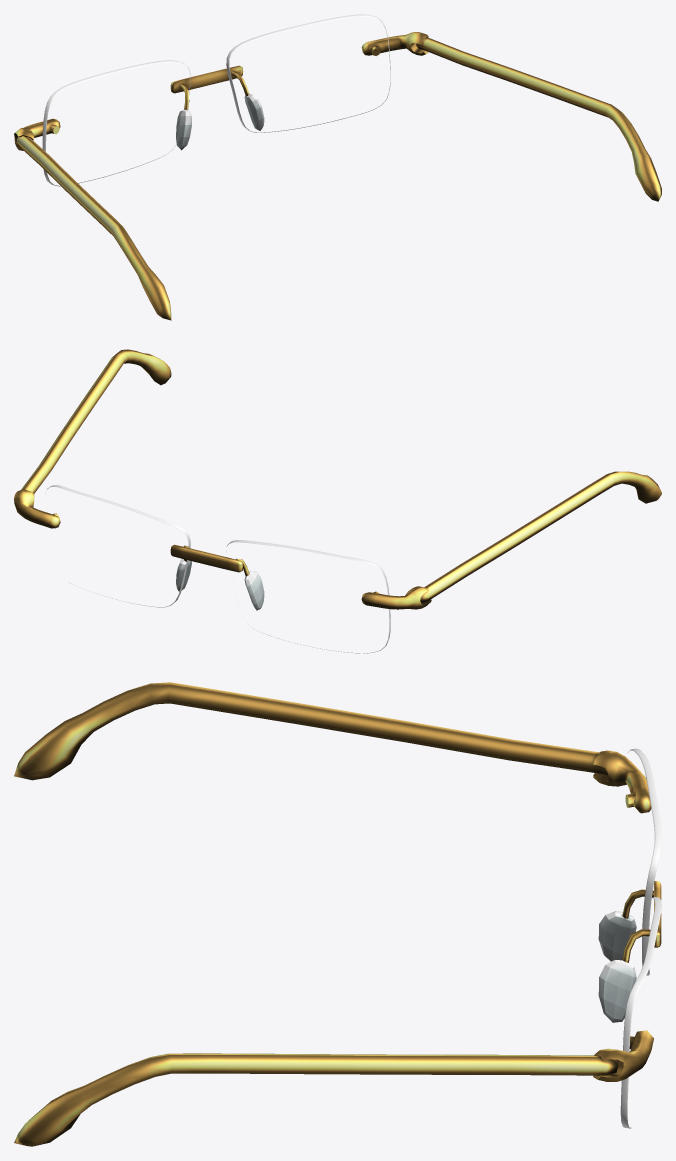
The model's file is 15-Gold-Clear-Cartier-Shades-134040741374406.glb.
3 views of the same model, one above another, from view 1: azimuth 30°, elevation 25°; view 2: azimuth 150°, elevation 25°; view 3: azimuth 270°, elevation 25° (orthographic). The views are drawn at different scales.
Visible parts, largest first — view 1: 15-Gold-Clear-Cartier-Shades-134040741374406; view 2: 15-Gold-Clear-Cartier-Shades-134040741374406; view 3: 15-Gold-Clear-Cartier-Shades-134040741374406.
Part boxes in pixels (<box>): 15-Gold-Clear-Cartier-Shades-134040741374406: <box>14,14,661,320</box>; 15-Gold-Clear-Cartier-Shades-134040741374406: <box>14,349,661,653</box>; 15-Gold-Clear-Cartier-Shades-134040741374406: <box>14,682,661,1146</box>.
Size of the model in its own units: 1.27 by 0.2366 by 0.9048.
1 material, 1 textured.
